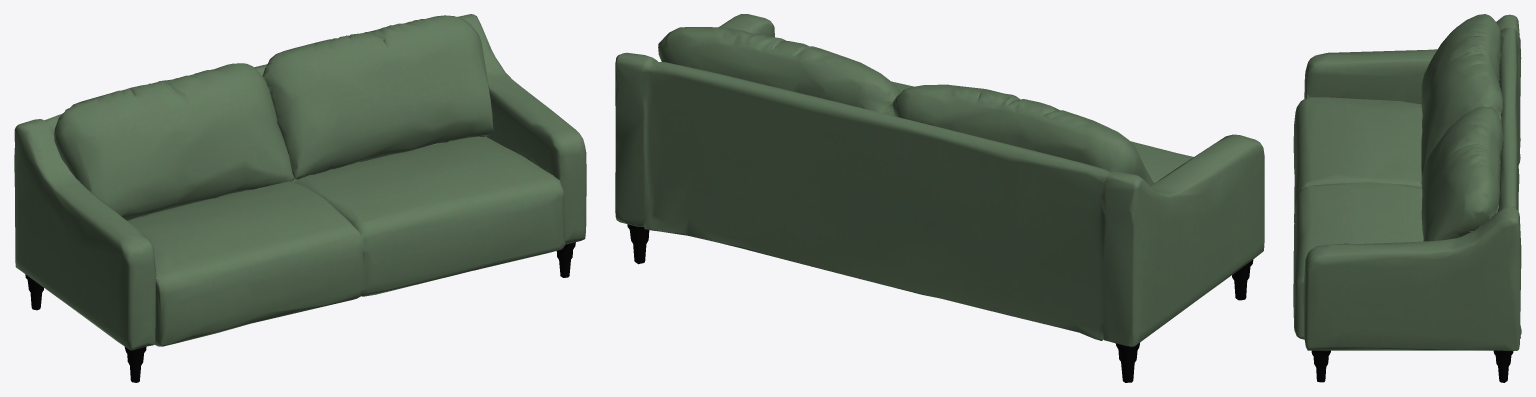
The model's file is gullvalla_sofa_3_osobowa_80618499.glb.
3 renders of one model, left to right at view 1: azimuth 30°, elevation 25°; view 2: azimuth 150°, elevation 25°; view 3: azimuth 270°, elevation 25°, orthographic. The views are drawn at different scales.
Parts seen in each view (by area): view 1: gullvalla_sofa_3_osobowa_80618499; view 2: gullvalla_sofa_3_osobowa_80618499; view 3: gullvalla_sofa_3_osobowa_80618499.
Part boxes in pixels (x1,y1,x2,y2): gullvalla_sofa_3_osobowa_80618499: (14, 14, 586, 382); gullvalla_sofa_3_osobowa_80618499: (615, 14, 1264, 382); gullvalla_sofa_3_osobowa_80618499: (1293, 14, 1521, 382).
Size of the model in its own units: 1.83 by 0.7926 by 0.8517.
Materials: 1 (1 with a texture image).
